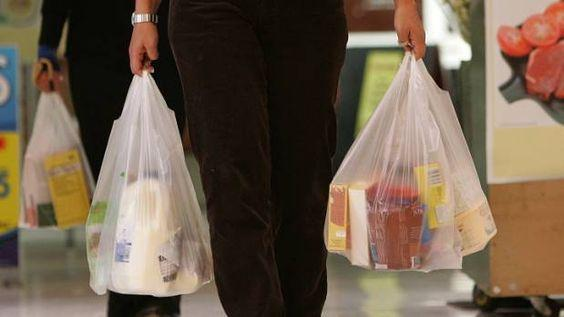LDPE: (324, 51, 498, 273), (85, 71, 213, 296)
